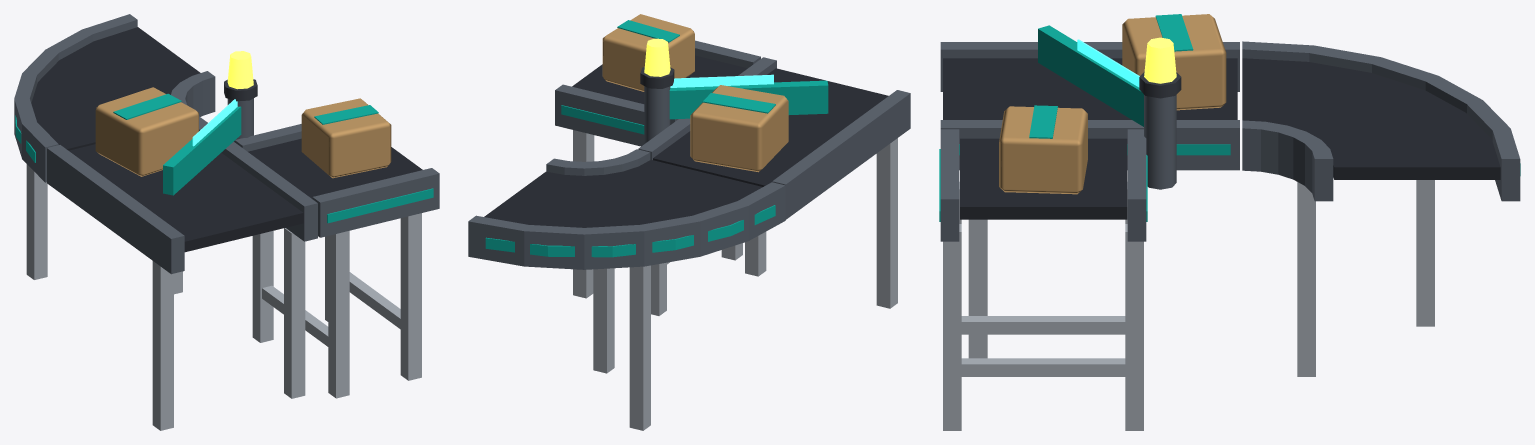
File: station_transport_ausstattung_1_3.glb
The picture shows the model from 3 angles, left to right: view 1: azimuth 30°, elevation 25°; view 2: azimuth 150°, elevation 25°; view 3: azimuth 270°, elevation 25°; orthographic projection. The views are drawn at different scales.
Visible parts, largest first — view 1: station_transport_ausstattung_1_3; view 2: station_transport_ausstattung_1_3; view 3: station_transport_ausstattung_1_3.
Part boxes in pixels (x1,y1,x2,y2): station_transport_ausstattung_1_3: (14, 14, 439, 430); station_transport_ausstattung_1_3: (468, 14, 910, 430); station_transport_ausstattung_1_3: (939, 14, 1520, 430).
Size of the model in its own units: 0.8007 by 0.79 by 1.24.
